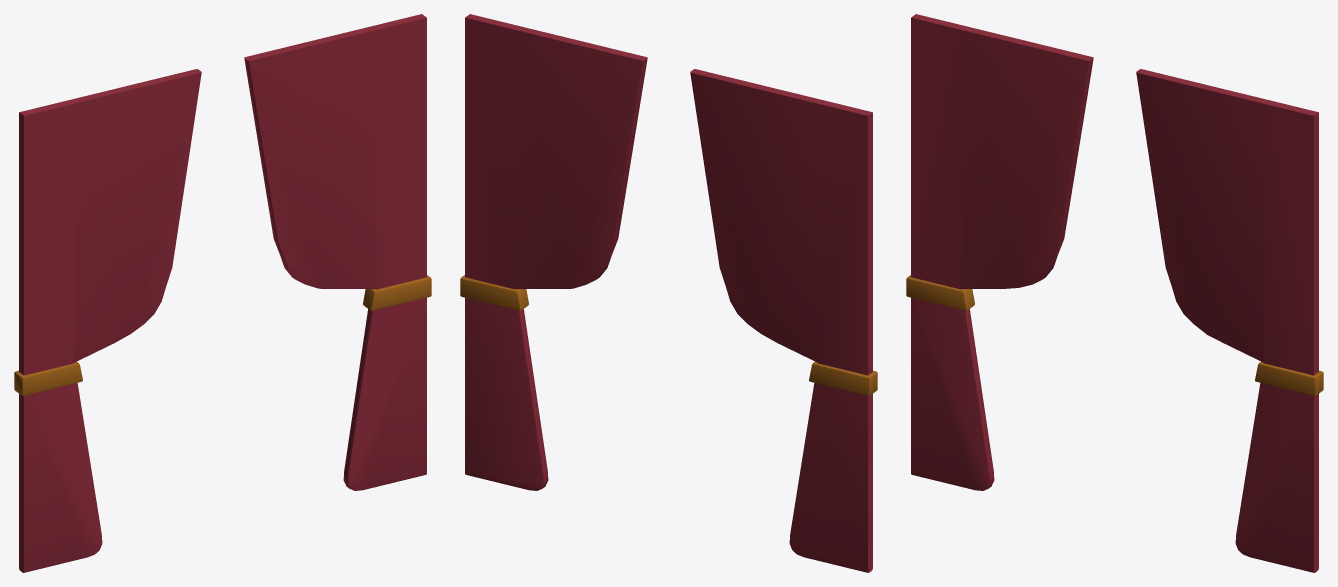
Rendered from Cortinas 1.fbx.
The picture shows the model from 3 angles, left to right: view 1: azimuth 30°, elevation 25°; view 2: azimuth 150°, elevation 25°; view 3: azimuth 330°, elevation 25°; orthographic projection.
Visible parts, largest first — view 1: Cortinas; view 2: Cortinas; view 3: Cortinas.
Boxes of the visible parts, left/top/right/bottom form: Cortinas: left=14, top=14, right=431, bottom=572; Cortinas: left=460, top=14, right=877, bottom=572; Cortinas: left=906, top=14, right=1323, bottom=572.
Bounding box in the file's own units: 58.01 × 61.89 × 2.22.
